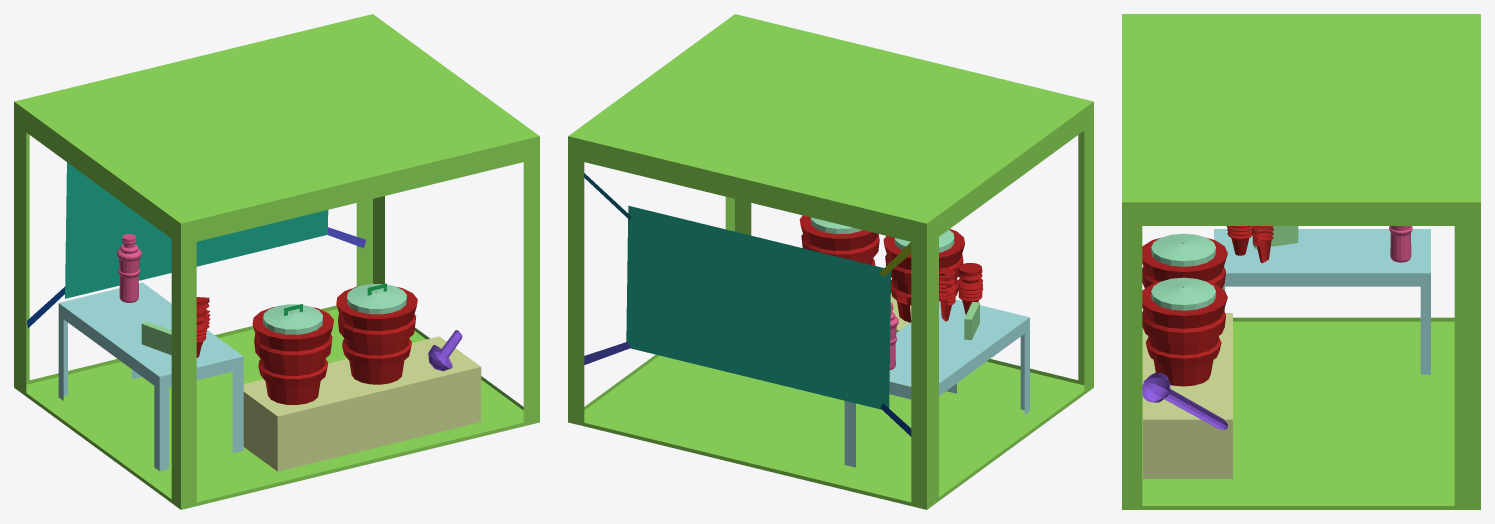
File: tejuino.fbx
3 renders of one model, left to right at view 1: azimuth 30°, elevation 25°; view 2: azimuth 150°, elevation 25°; view 3: azimuth 270°, elevation 25°, orthographic. The views are drawn at different scales.
Parts seen in each view (by area): view 1: tejuino_2; view 2: tejuino_2; view 3: tejuino_2.
Boxes of the visible parts, x1,y1,x2,y2 form: tejuino_2: (14, 14, 539, 509); tejuino_2: (568, 14, 1093, 509); tejuino_2: (1122, 14, 1480, 509).
Size of the model in its own units: 110 by 83.86 by 88.65.
